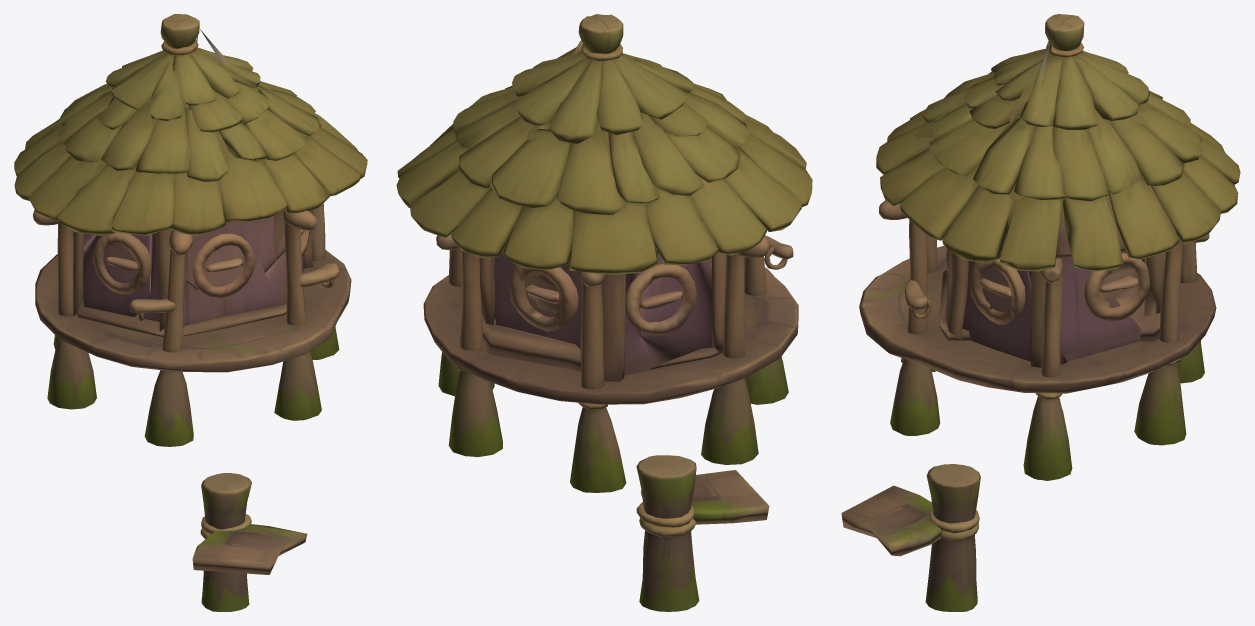
The model's file is cabana_palafito.glb.
The picture shows the model from 3 angles, left to right: view 1: azimuth 30°, elevation 25°; view 2: azimuth 150°, elevation 25°; view 3: azimuth 270°, elevation 25°; orthographic projection. The views are drawn at different scales.
Parts seen in each view (by area): view 1: cabana_palafito; view 2: cabana_palafito; view 3: cabana_palafito.
Boxes of the visible parts, bbox=[...] form: cabana_palafito: bbox=[14, 14, 367, 611]; cabana_palafito: bbox=[396, 14, 812, 611]; cabana_palafito: bbox=[841, 14, 1240, 611].
Size of the model in its own units: 0.3936 by 0.6579 by 0.4069.
1 material, 1 textured.
